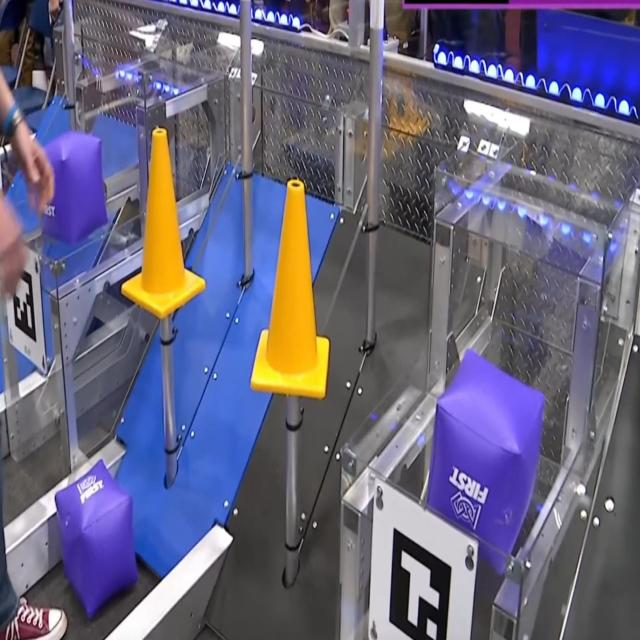frc_cone: (251, 177, 329, 400), (122, 128, 207, 320)
frc_cube: (422, 342, 544, 578), (54, 457, 136, 615), (36, 132, 108, 242)
